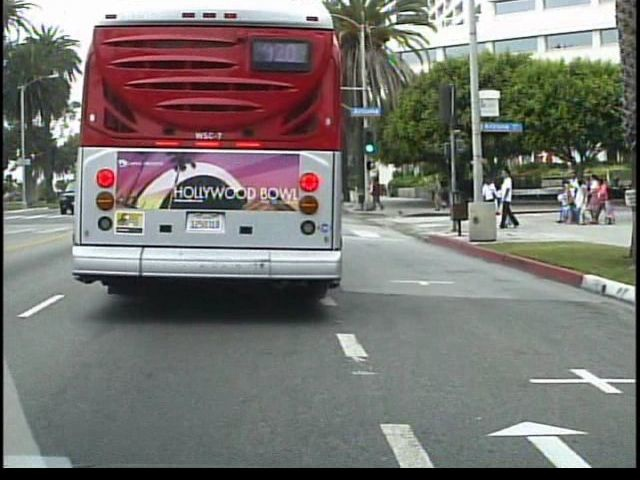person: (497, 165, 521, 234), (480, 174, 501, 226), (369, 175, 390, 216), (432, 174, 449, 215)
